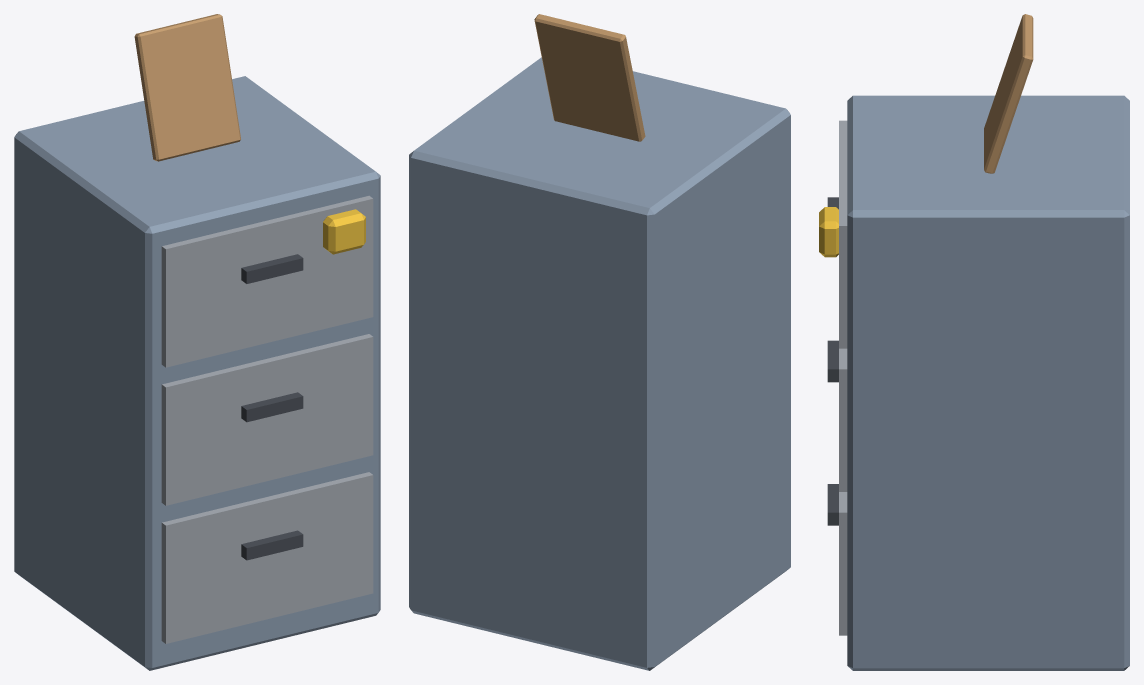
Rendered from delegation_p2_4.glb.
3 views of the same model, side by side, from view 1: azimuth 30°, elevation 25°; view 2: azimuth 150°, elevation 25°; view 3: azimuth 270°, elevation 25° (orthographic). The views are drawn at different scales.
Visible parts, largest first — view 1: delegation_p2_4_mesh; view 2: delegation_p2_4_mesh; view 3: delegation_p2_4_mesh.
Part boxes in pixels (box(x1,y1,x2,y2)): delegation_p2_4_mesh: box(14, 14, 380, 670); delegation_p2_4_mesh: box(409, 14, 790, 670); delegation_p2_4_mesh: box(819, 14, 1129, 670).
Bounding box in the file's own units: 0.5 × 1.13 × 0.55.
